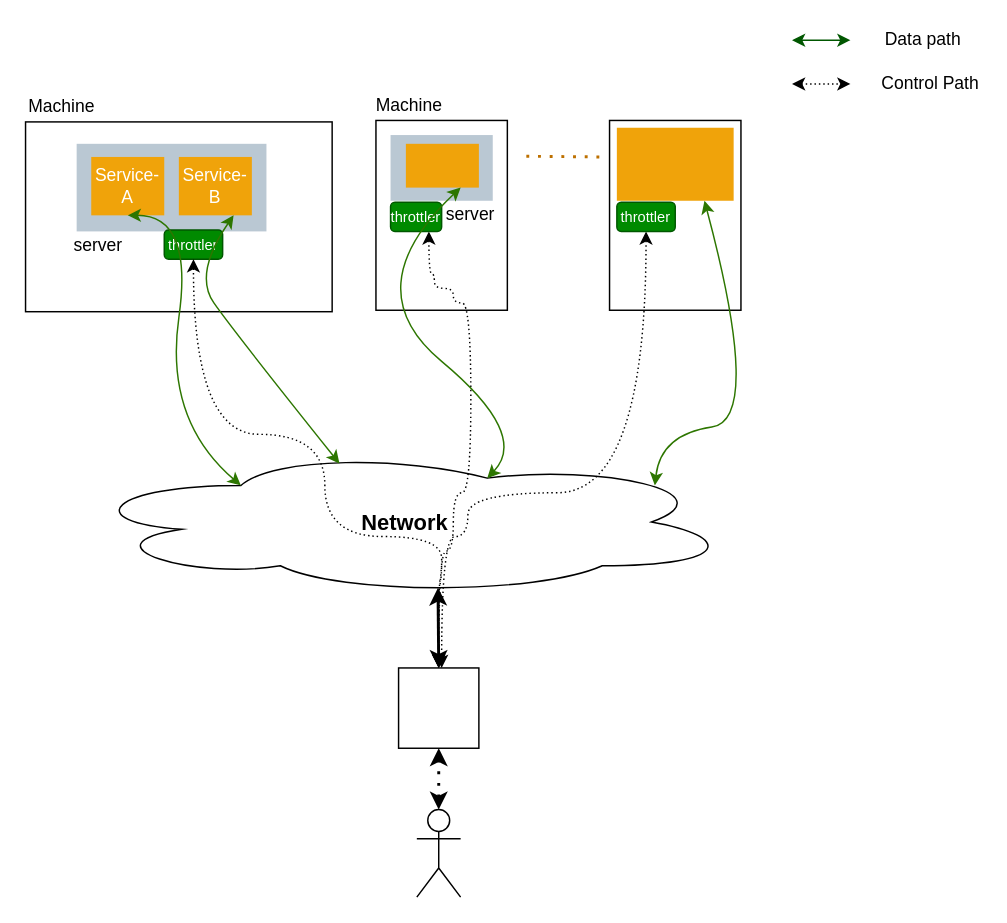
This 1007x923 diagram has some shape labels left out. The box of each missing label's shape, as (x1, y1, x2, y2) in pixels:
Controller: (397, 666, 479, 748)
Service-C: (405, 143, 478, 187)
Service-D: (616, 127, 733, 200)
